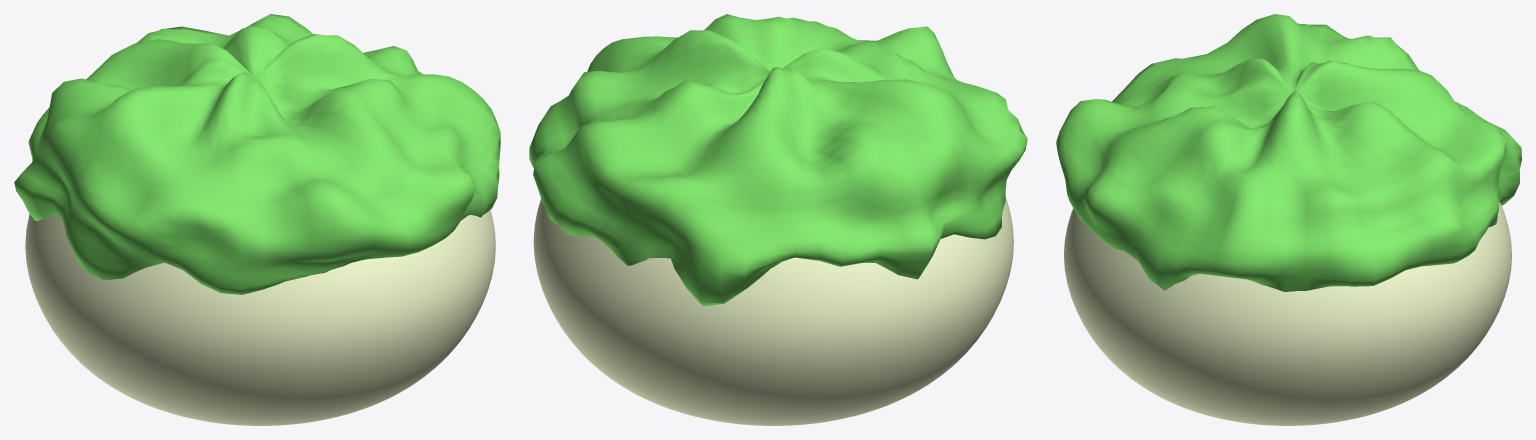
Rendered from Zunda 1.fbx.
The picture shows the model from 3 angles, left to right: view 1: azimuth 30°, elevation 25°; view 2: azimuth 150°, elevation 25°; view 3: azimuth 270°, elevation 25°; orthographic projection. The views are drawn at different scales.
Parts seen in each view (by area): view 1: Sphere.001, Sphere; view 2: Sphere.001, Sphere; view 3: Sphere.001, Sphere.
Boxes of the visible parts, x1,y1,x2,y2 form: Sphere.001: [14, 14, 500, 294]; Sphere: [25, 210, 495, 425]; Sphere.001: [529, 14, 1027, 306]; Sphere: [533, 197, 1013, 425]; Sphere.001: [1056, 14, 1521, 291]; Sphere: [1064, 202, 1511, 425].
Bounding box in the file's own units: 251 × 191 × 257.
